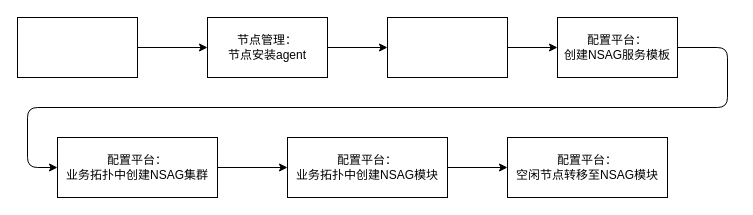
Image size: 753x215. Some labels were removed from this diagram. Here are the shapes that lost their labels. From the top down, the centre of each, then its label:
At pixel 77 47: "配置平台： 创建业务".
At pixel 447 47: "配置平台： 创建NSAG服务分类".
